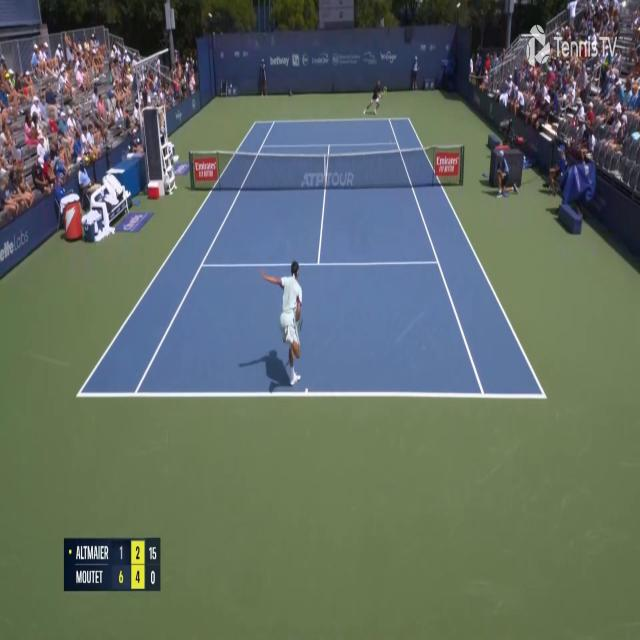tennis-player: (257, 256, 304, 386), (363, 78, 386, 118)
